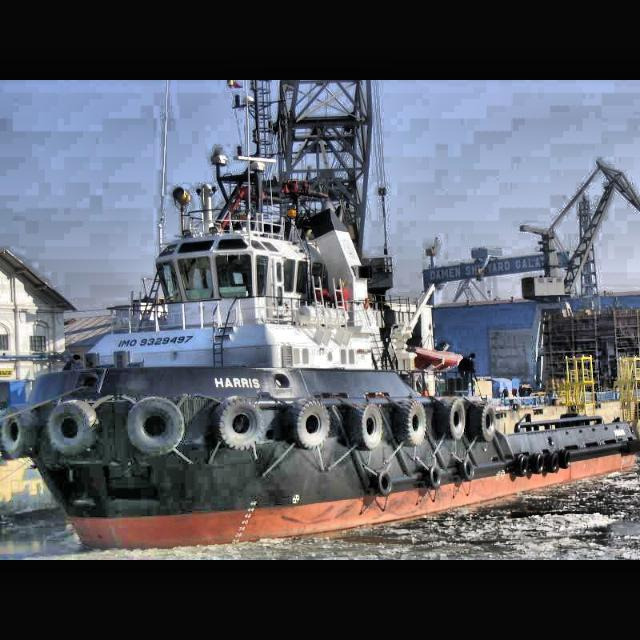anchor_handling_tug_supply: (1, 179, 637, 553)
